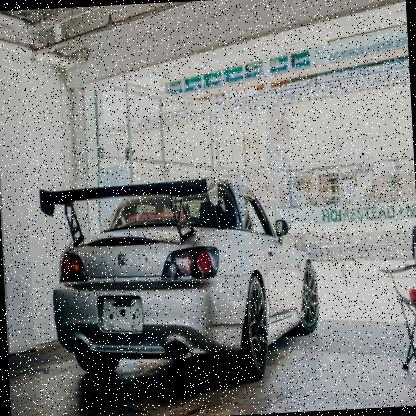Car: (39, 169, 323, 394)
